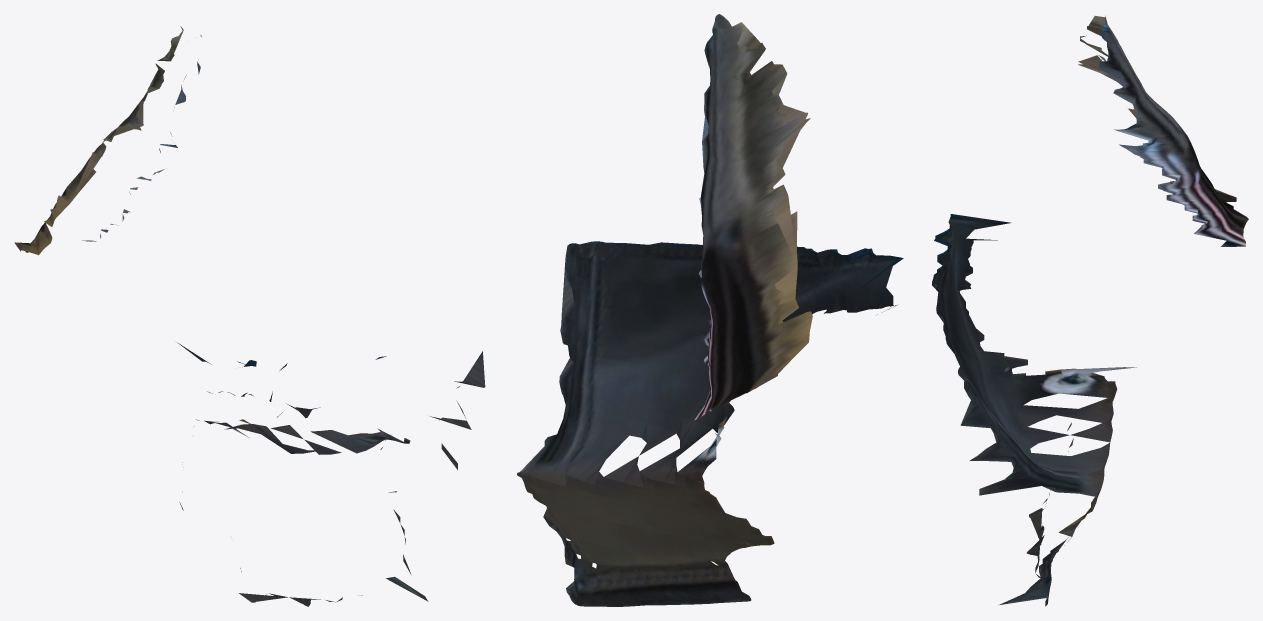
File: observed-surface.glb
3 renders of one model, left to right at view 1: azimuth 30°, elevation 25°; view 2: azimuth 150°, elevation 25°; view 3: azimuth 270°, elevation 25°, orthographic. The views are drawn at different scales.
Visible parts, largest first — view 1: geometry_0; view 2: geometry_0; view 3: geometry_0.
Boxes of the visible parts, x1,y1,x2,y2 form: geometry_0: (14,26,485,606); geometry_0: (517,14,903,606); geometry_0: (932,16,1248,606).
Bounding box in the file's own units: 0.3784 × 0.6447 × 0.3545.
1 material, 1 textured.
